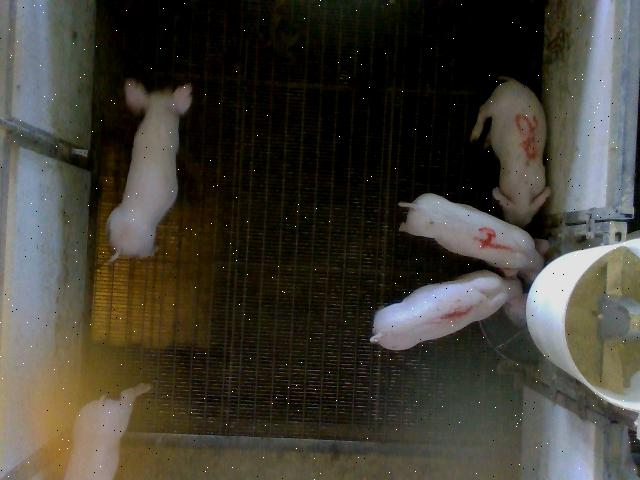pig-1: (370, 270, 520, 349)
pig-4: (399, 194, 544, 273)
pig-5: (470, 76, 551, 227)
